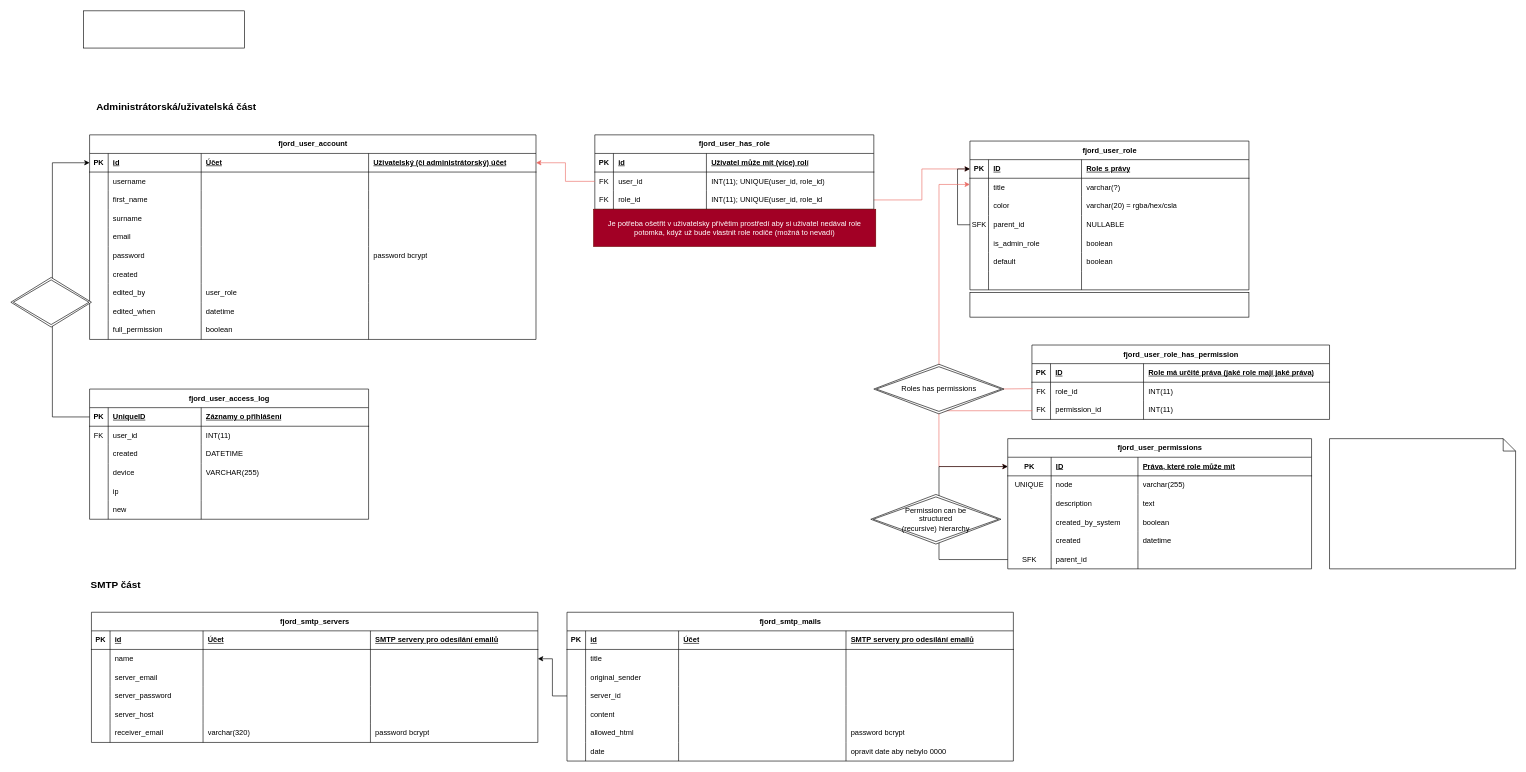
This 1526x772 diagram has some shape labels left out. Each missing label, with the centre of its shape:
Account has records in log: the point at 50,302
CONSTRAINT: is_admin_role !== default: the point at 1109,304
List of permissions created by system:: the point at 1422,503
Vysvětlivky: - SFK = Same (Table) Foreign key - MANY HAS MANY (barva pozadí): the point at 164,29
